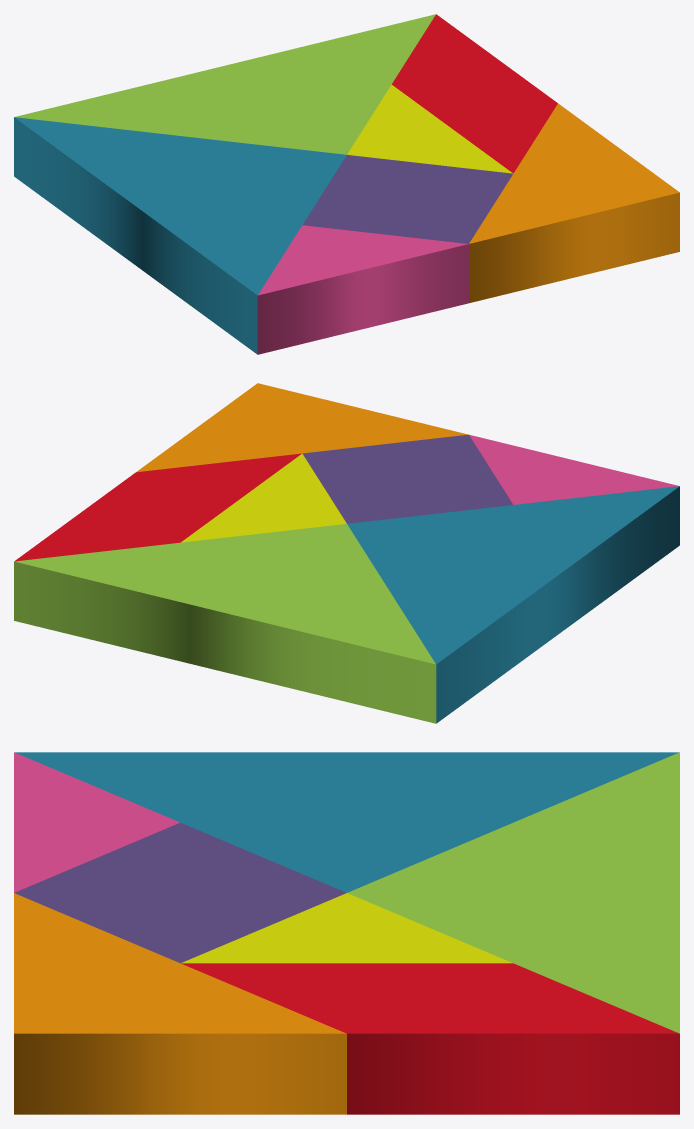
Rendered from Pickagram.obj.
The picture shows the model from 3 angles, top to bottom: view 1: azimuth 30°, elevation 25°; view 2: azimuth 150°, elevation 25°; view 3: azimuth 270°, elevation 25°; orthographic projection. The views are drawn at different scales.
Parts seen in each view (by area): view 1: big_triangle_2, big_triangle_1, medium_triangle, small_triangle_2, square, paralellogram, small_triangle_1; view 2: big_triangle_1, big_triangle_2, medium_triangle, paralellogram, square, small_triangle_2, small_triangle_1; view 3: paralellogram, medium_triangle, big_triangle_2, big_triangle_1, square, small_triangle_1, small_triangle_2.
Part boxes in pixels (box(x1,y1,x2,y2)): big_triangle_2: box(14, 117, 346, 354); big_triangle_1: box(14, 14, 435, 154); medium_triangle: box(469, 103, 679, 303); small_triangle_2: box(257, 225, 468, 354); square: box(302, 155, 512, 243); paralellogram: box(391, 14, 557, 173); small_triangle_1: box(347, 84, 512, 173); big_triangle_1: box(14, 524, 436, 723); big_triangle_2: box(347, 486, 679, 723); medium_triangle: box(136, 383, 467, 472); paralellogram: box(14, 453, 301, 561); square: box(302, 434, 513, 523); small_triangle_2: box(469, 434, 679, 504); small_triangle_1: box(181, 453, 346, 542); paralellogram: box(181, 963, 679, 1114); medium_triangle: box(14, 893, 346, 1114); big_triangle_2: box(15, 752, 678, 892); big_triangle_1: box(347, 752, 679, 1033); square: box(14, 822, 346, 963); small_triangle_1: box(181, 893, 512, 963); small_triangle_2: box(14, 752, 179, 892).
Size of the model in its own units: 1.49 by 0.2 by 1.49.
